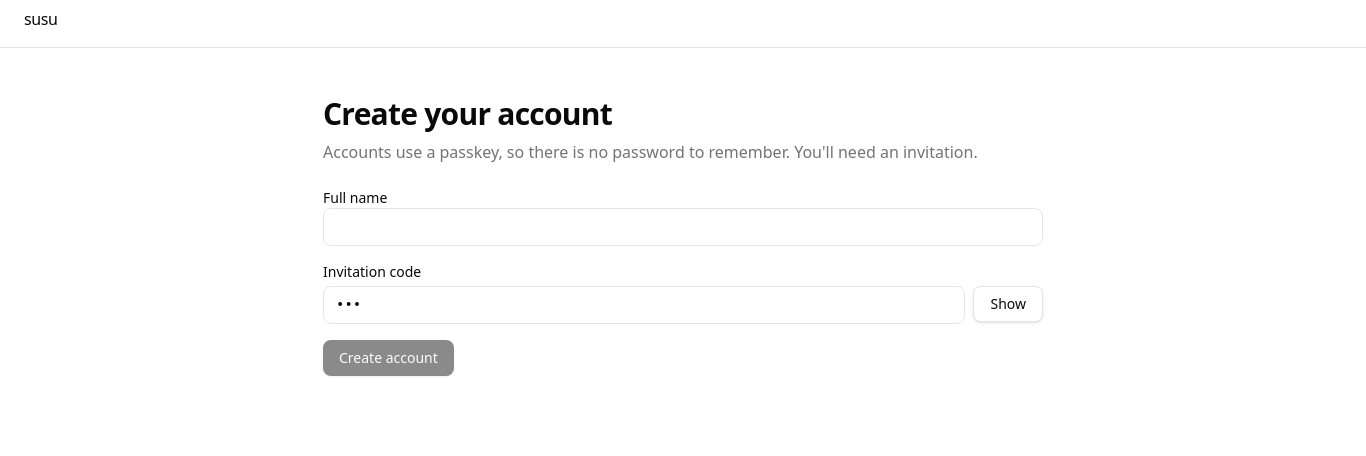
shows a rejected-invitation error and allows retrying
Type "Ada Lovelace" into the field labelled "Full name".
click(683, 227); type("Ada Lovelace")  # box left=323, top=208, right=1043, bottom=246
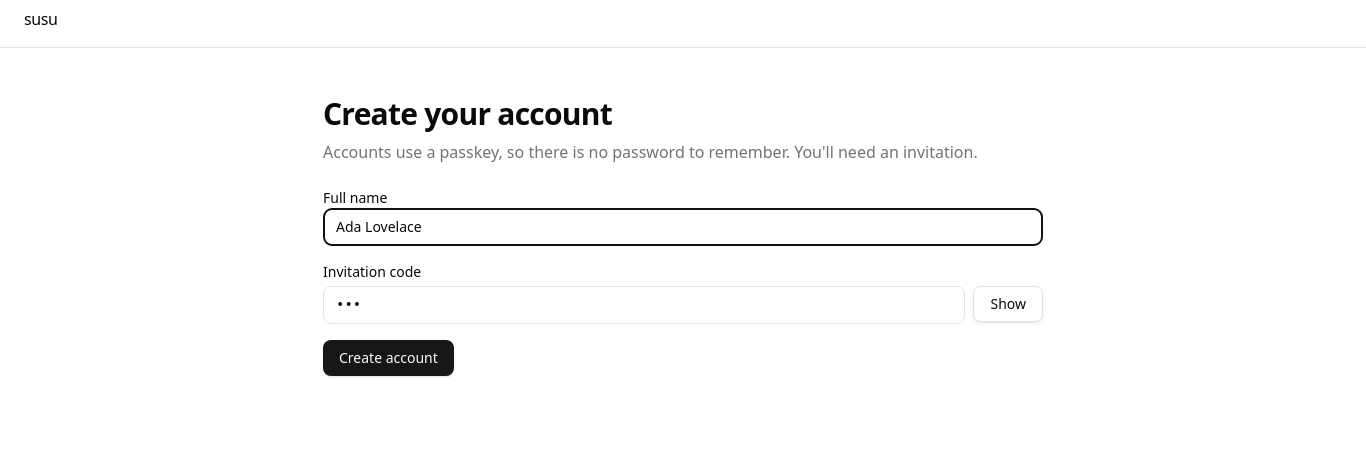
Click the button "Create account".
click(388, 358)  # box left=323, top=340, right=454, bottom=376
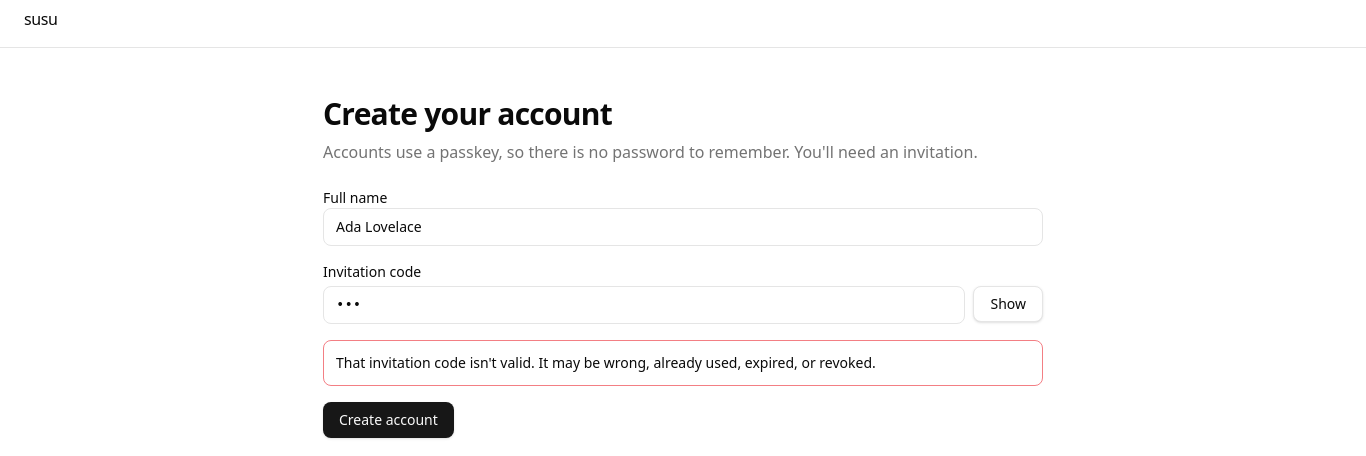
Expected: the button "Create account" is enabled, left=323, top=402, right=454, bottom=438
Expected: the message shows "That invitation code isn't valid", left=336, top=353, right=876, bottom=372
